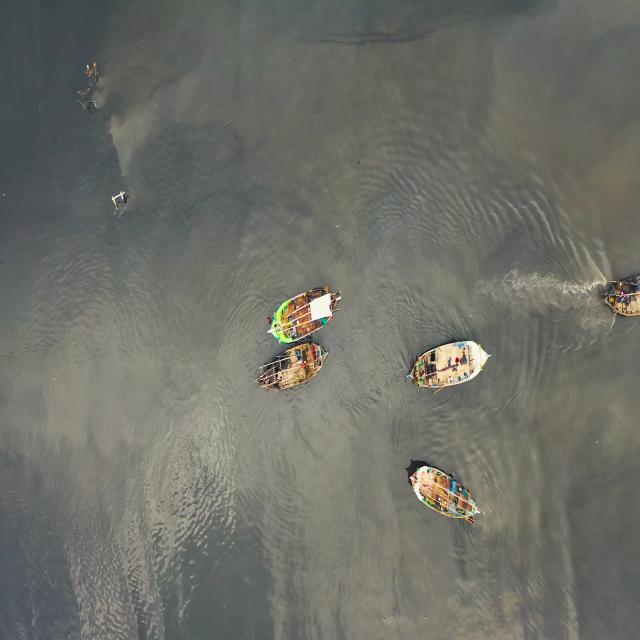ship: (408, 464, 486, 528), (401, 339, 496, 391), (270, 282, 346, 343), (255, 342, 332, 392), (603, 266, 637, 327)
